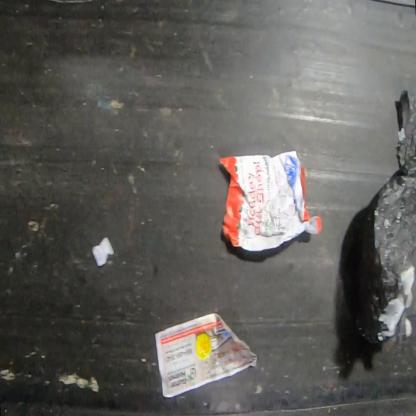soft_plastic: (374, 88, 415, 342)
